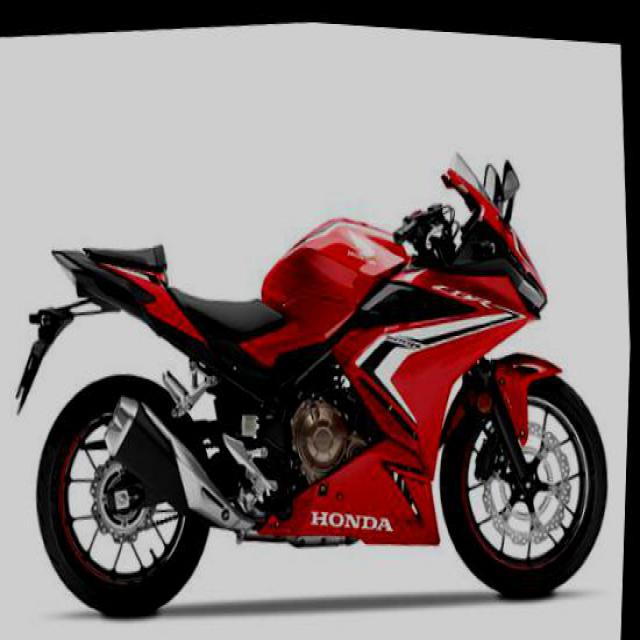CBR500R: (0, 95, 629, 639)
